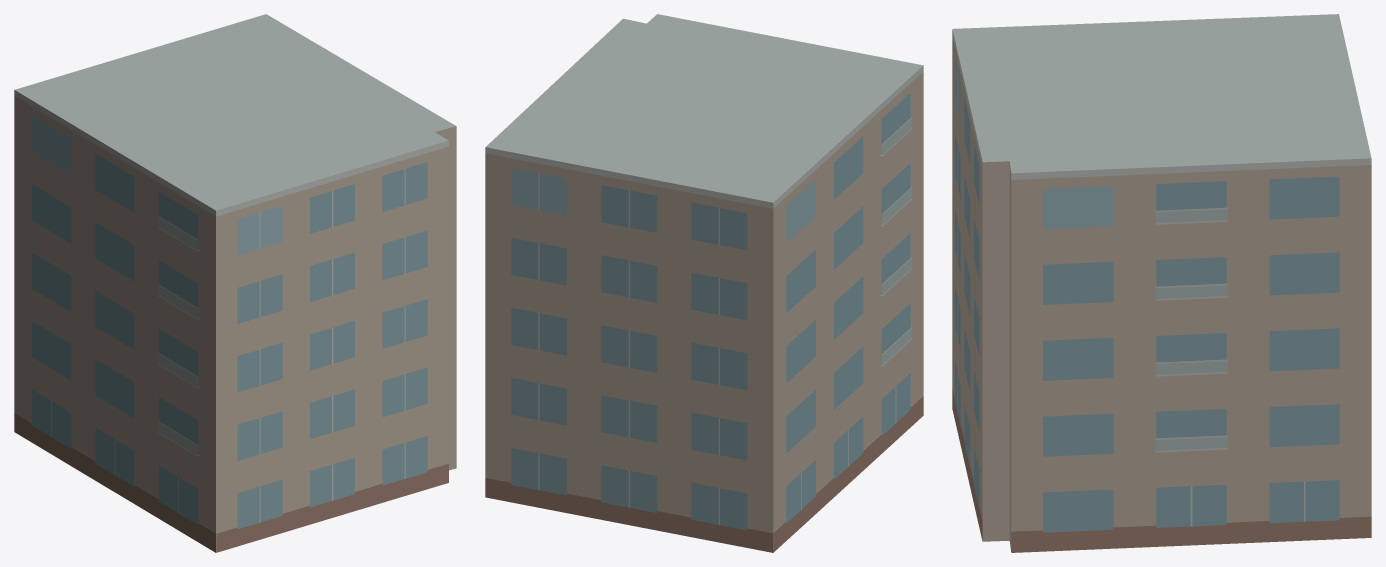
Rendered from survey-upis-32653074.glb.
The picture shows the model from 3 angles, left to right: view 1: azimuth 30°, elevation 25°; view 2: azimuth 150°, elevation 25°; view 3: azimuth 270°, elevation 25°; orthographic projection. The views are drawn at different scales.
Parts seen in each view (by area): view 1: survey-upis-32653074.tmp; view 2: survey-upis-32653074.tmp; view 3: survey-upis-32653074.tmp.
Part boxes in pixels (<box>): survey-upis-32653074.tmp: <box>14,14,456,552</box>; survey-upis-32653074.tmp: <box>485,14,923,552</box>; survey-upis-32653074.tmp: <box>952,14,1371,552</box>.
Bounding box in the file's own units: 12.71 × 14.1 × 14.13.
